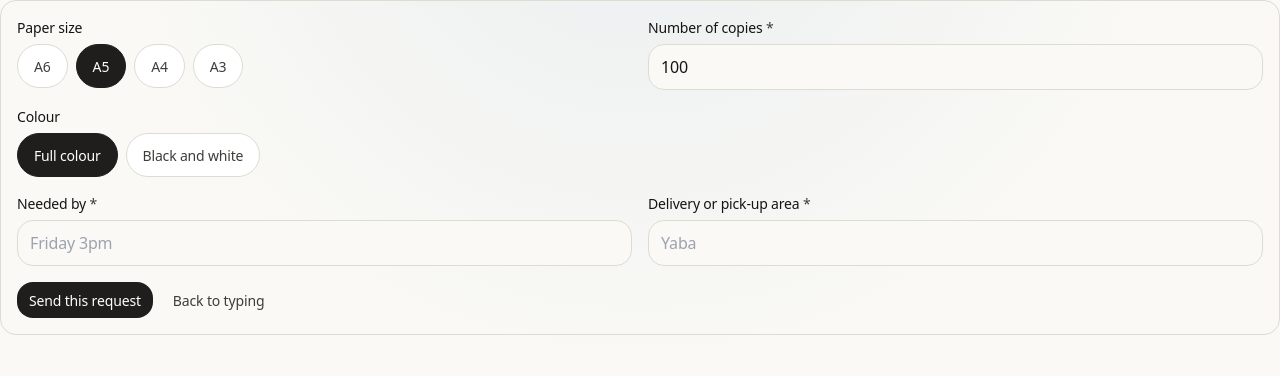
Test case: StructuredRequestForm › blocks submission and shows an error when a required field is missing
Click the button "Send this request". click: (85, 300)
box: x1=17 y1=282 x2=153 y2=318
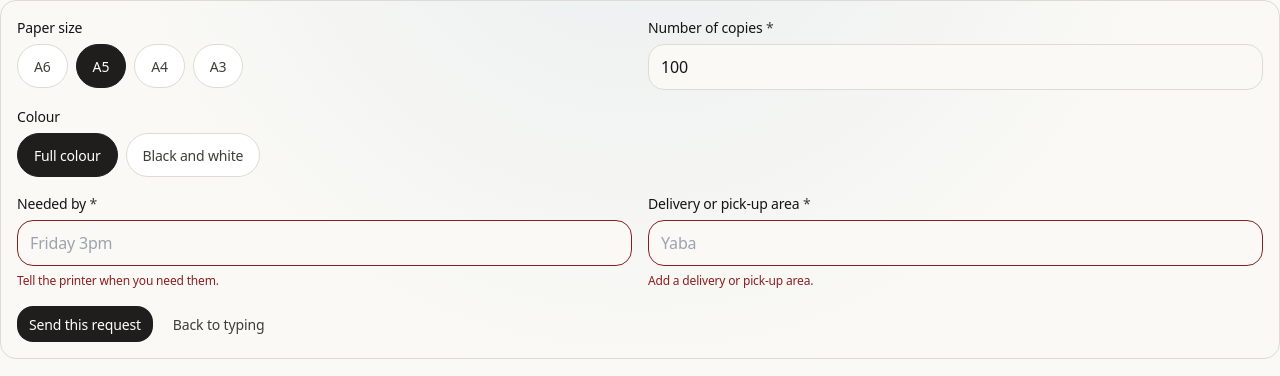
expect the text "Tell the printer when you need them." is shown: met, box x1=17 y1=272 x2=219 y2=289
